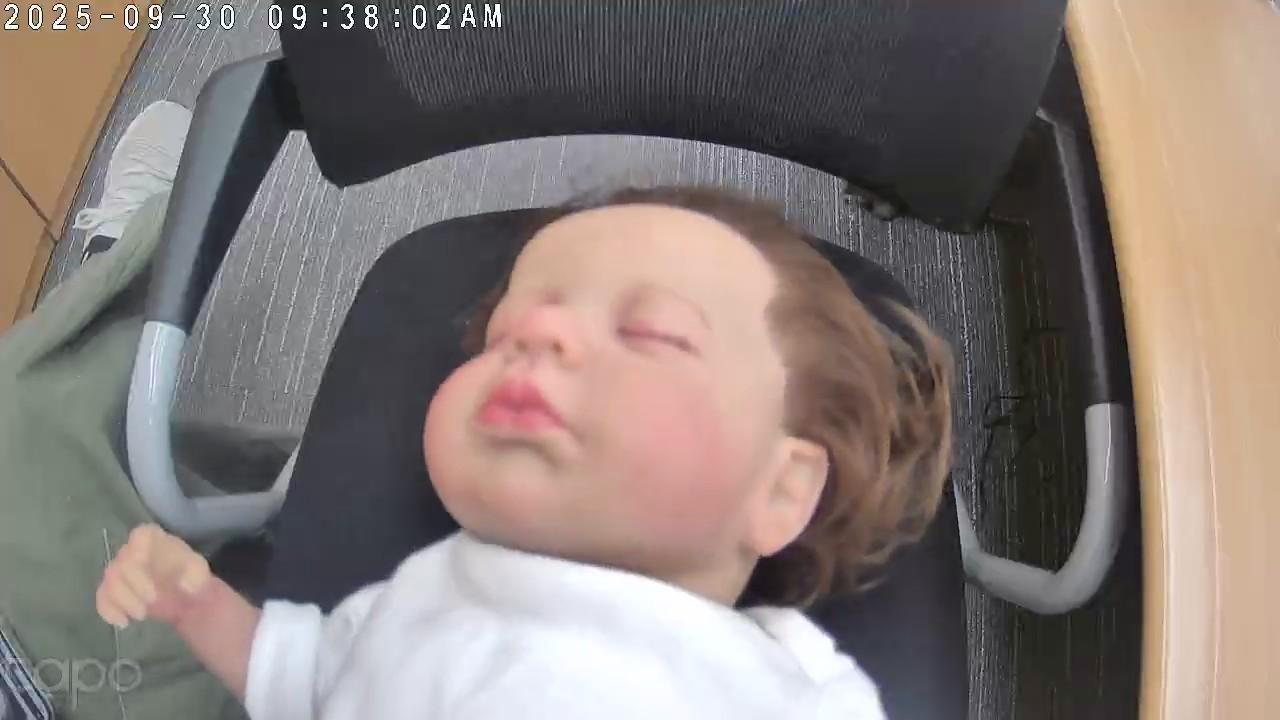hand: (94, 519, 215, 633)
